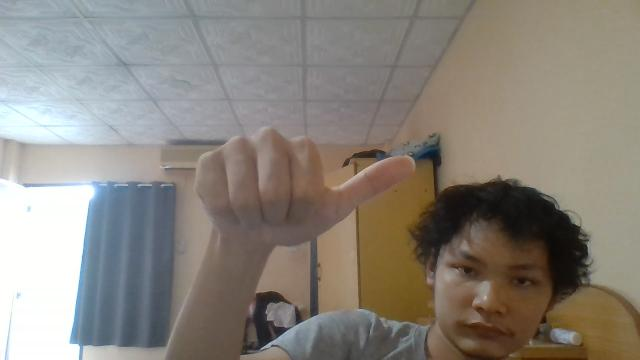left: (193, 125, 415, 247)
